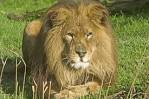lion: (23, 2, 117, 95)
